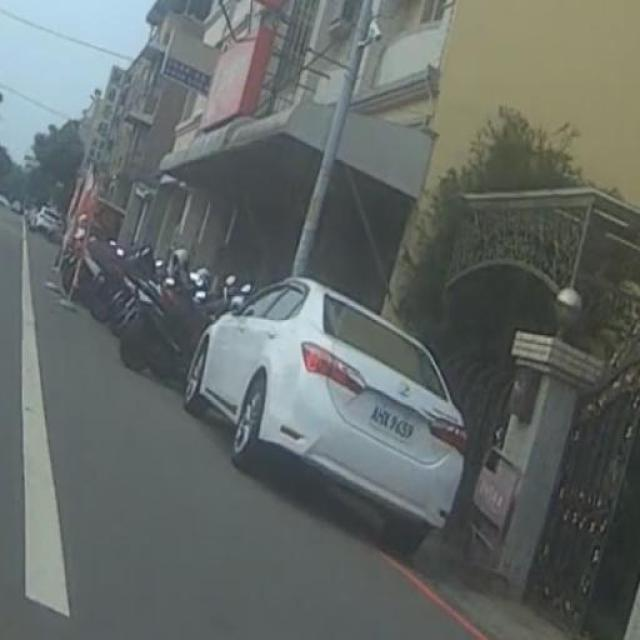Legalparking: (65, 199, 518, 510)
